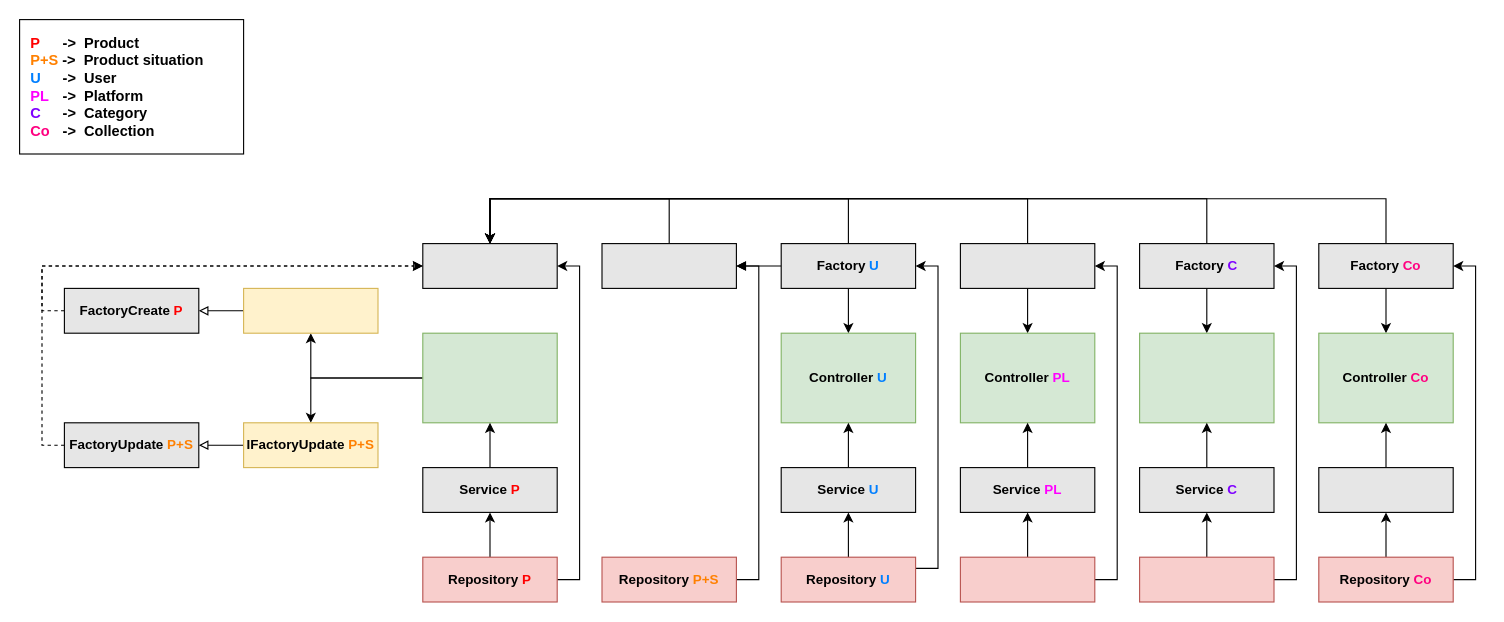
This 1504x622 diagram has some shape labels left out. Here are the shapes that lost their labels. From the top down, the box of each, then its label:
(422, 242, 557, 288): Factory P
(601, 242, 736, 288): Factory P+S
(959, 242, 1095, 288): Factory PL
(242, 287, 378, 333): IFactoryCreate P
(422, 332, 557, 423): Controller P
(1138, 332, 1274, 423): Controller C
(1318, 466, 1453, 512): Service Co
(959, 556, 1095, 602): Repository PL
(1138, 556, 1274, 602): Repository C
